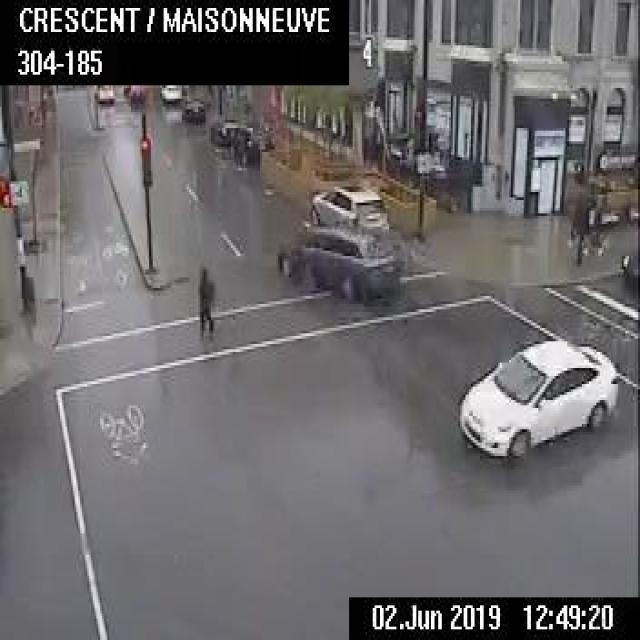pedestrian: (16, 269, 36, 344), (196, 263, 213, 336)
vehicle: (456, 336, 618, 456), (276, 221, 401, 299), (309, 182, 388, 231), (233, 124, 272, 162), (209, 115, 236, 145), (622, 248, 638, 292), (180, 95, 203, 123), (158, 83, 182, 104), (96, 83, 115, 103), (128, 83, 145, 103)
